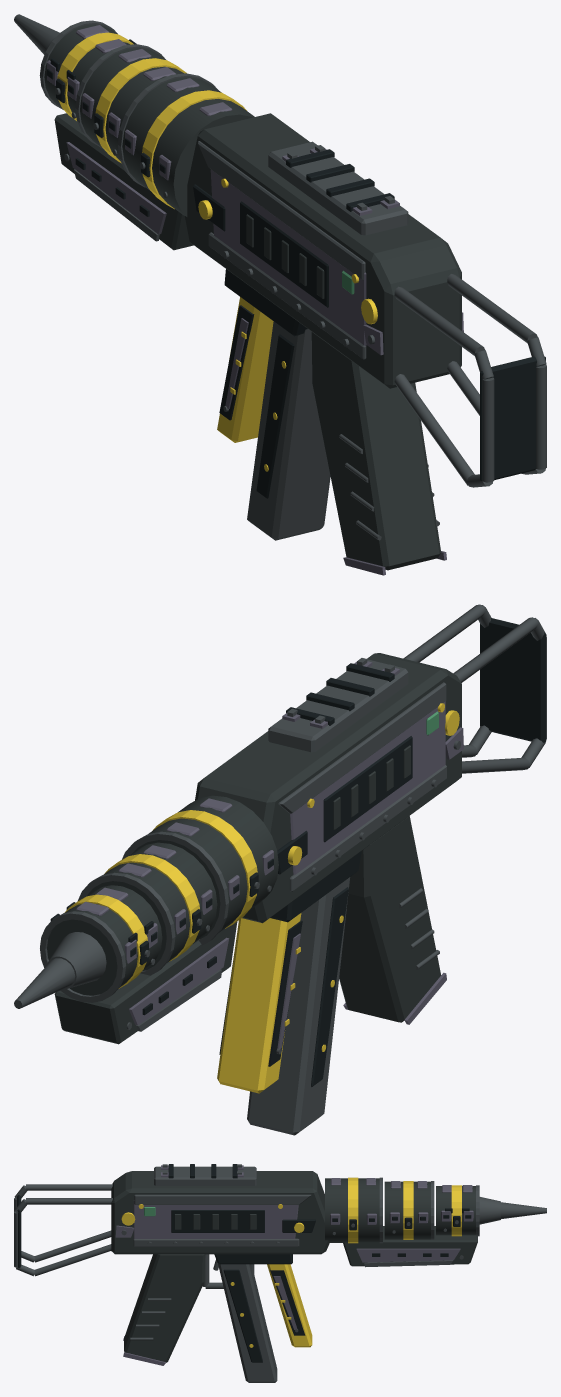
The model's file is smg_1.glb.
3 renders of one model, top to bottom at view 1: azimuth 30°, elevation 25°; view 2: azimuth 150°, elevation 25°; view 3: azimuth 270°, elevation 25°, orthographic. The views are drawn at different scales.
Parts seen in each view (by area): view 1: Weapon_smg_v1; view 2: Weapon_smg_v1; view 3: Weapon_smg_v1.
Part boxes in pixels (left/top/right/bottom): Weapon_smg_v1: left=14, top=14, right=546, bottom=575; Weapon_smg_v1: left=14, top=604, right=546, bottom=1135; Weapon_smg_v1: left=14, top=1164, right=546, bottom=1382.
Bounding box in the file's own units: 0.084 × 0.2695 × 0.624.
